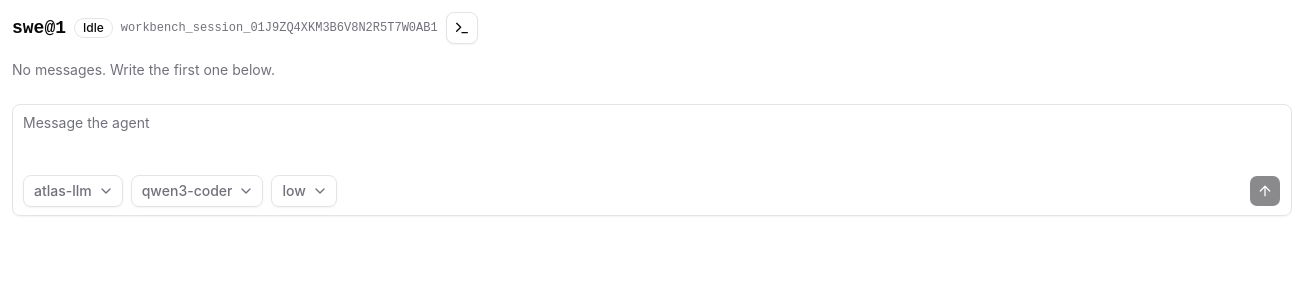
it: Composer › names the refusal and keeps the previous value
Click the dropdown named "Reasoning Effort". click: (304, 191)
box: [272,175,337,207]
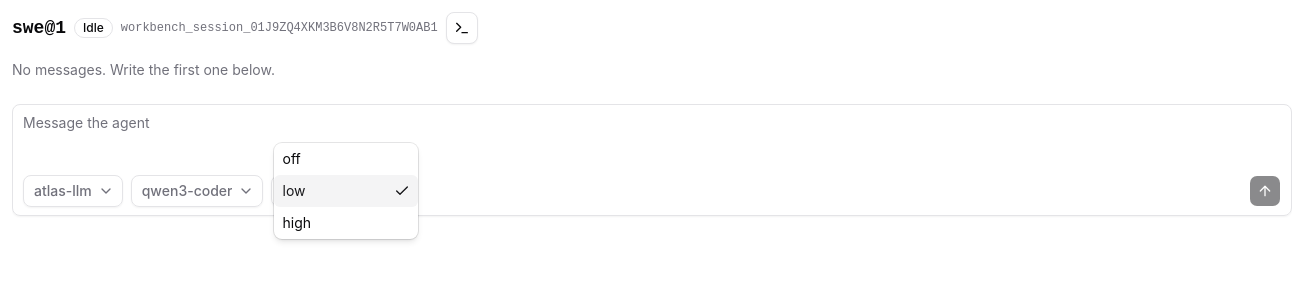
Click the option "high". click: (297, 222)
box: [282,214,311,231]
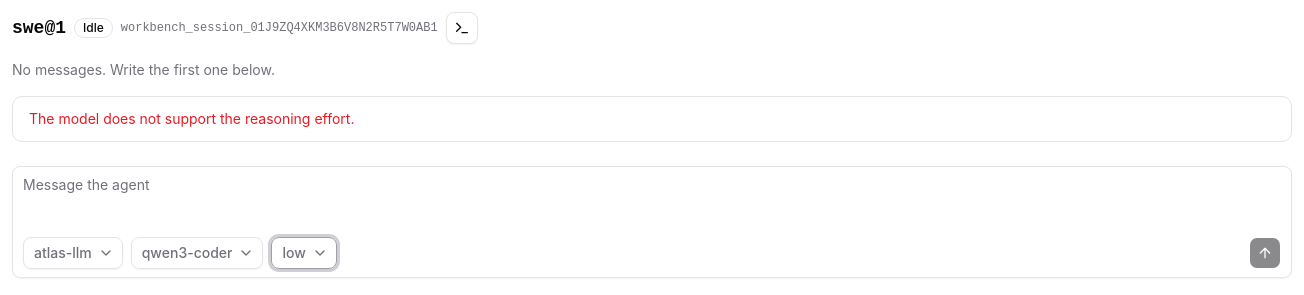
Expected: the dropdown named "Reasoning Effort" shows "low", [272,237,337,269]
Result: the text "The model does not support the reasoning effort." is shown at [29,110,354,127]
